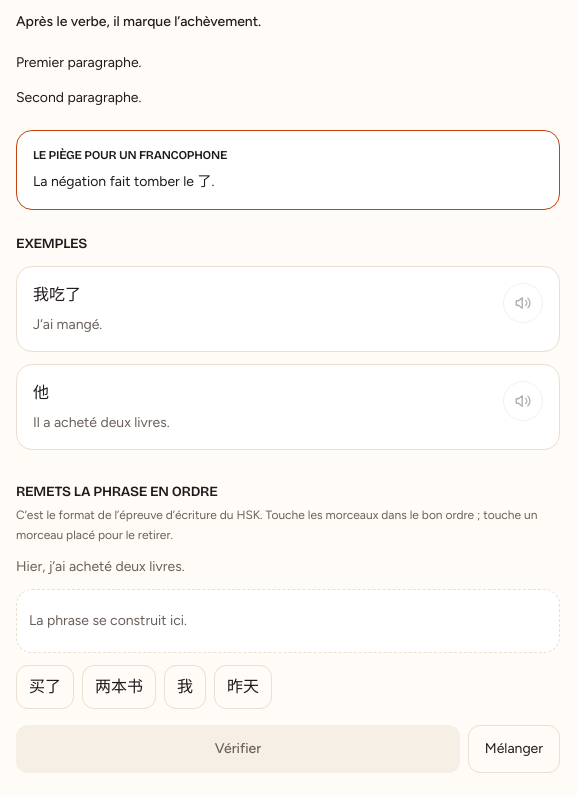
Test case: PointScreen › permet de retirer un morceau déjà placé
The width and height of the screenshot is (577, 796).
(page scrolled)
Click the button named "Placer 我" at coordinates (185, 687), box [164,665,206,709]
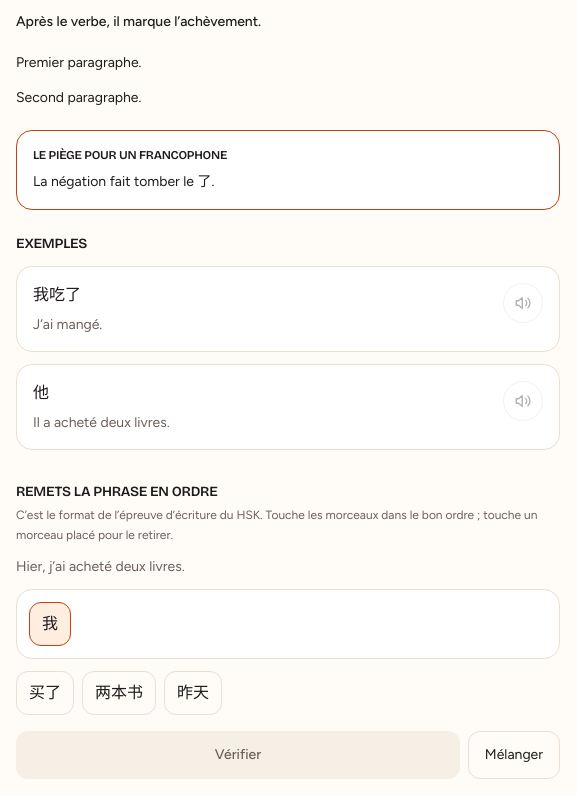
Click the button named "Retirer 我, en position 1" at coordinates (50, 624), box [29,602,71,646]
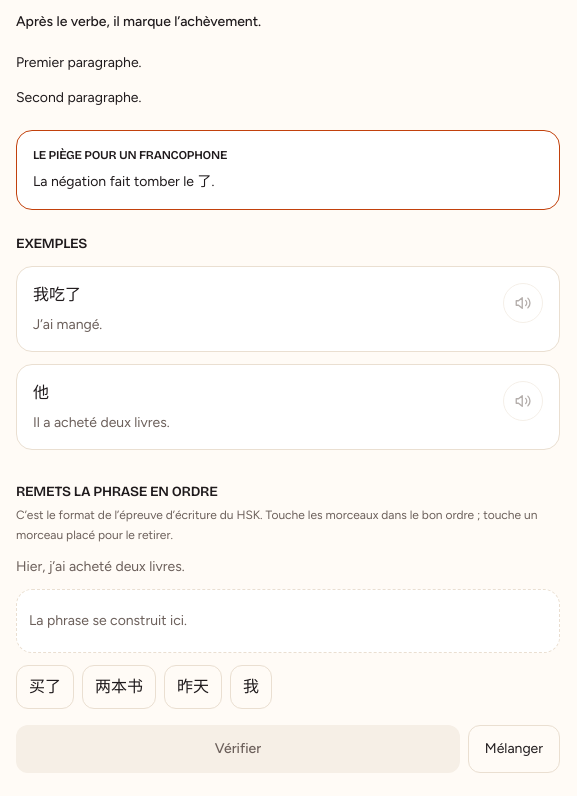
expect the button "Vérifier" is disabled: met, box [16,725,460,773]
expect the button named "Placer 我" is shown: met, box [230,665,272,709]
